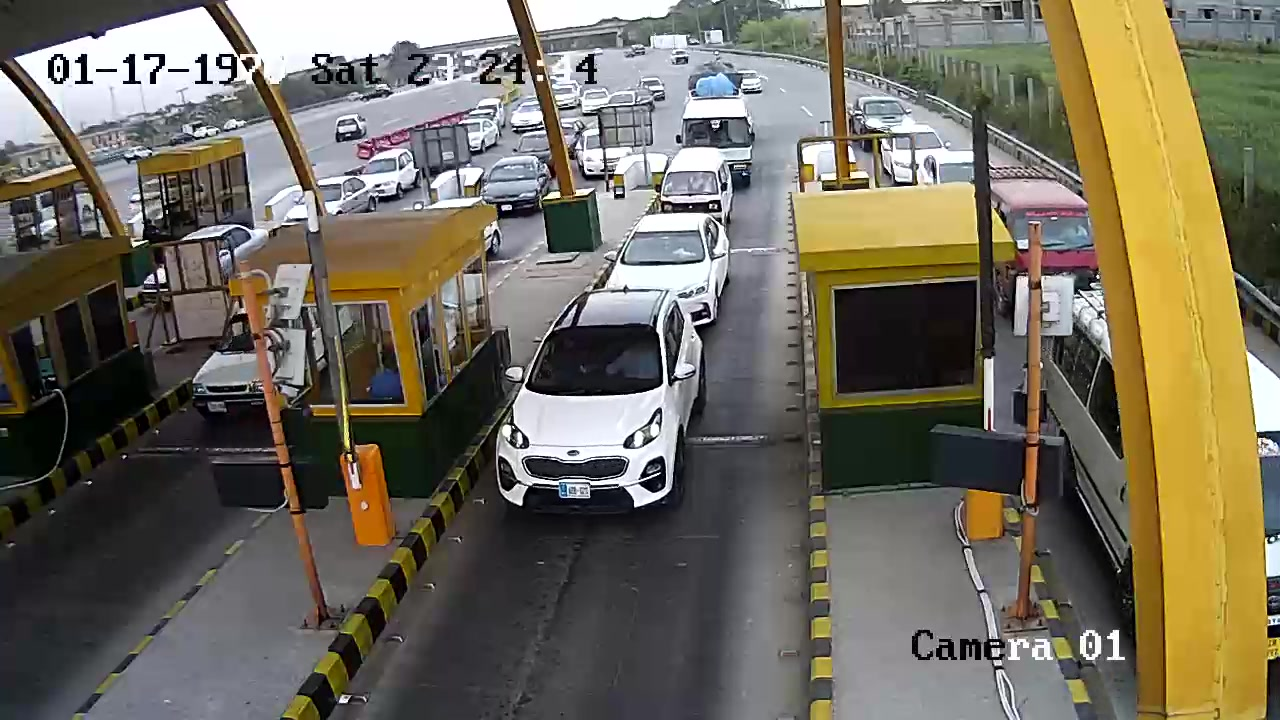F1: (492, 282, 705, 540)
